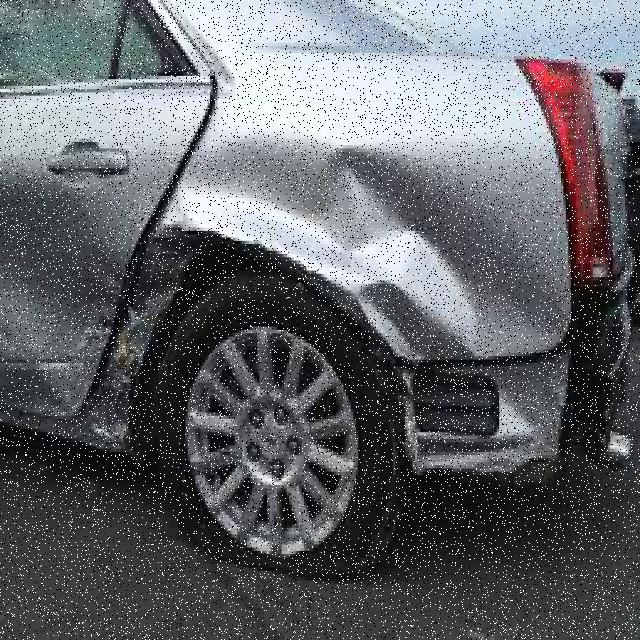doorouter-dent: (0, 79, 121, 409)
quaterpanel-dent: (210, 73, 556, 373), (136, 228, 299, 422)
